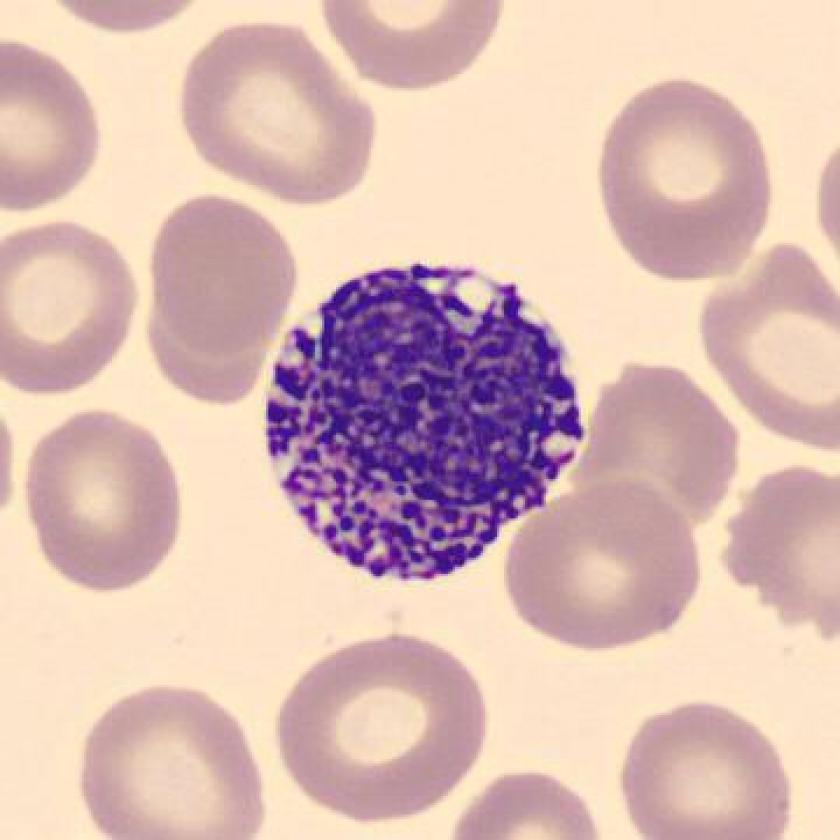basophil: (260, 256, 596, 591)
